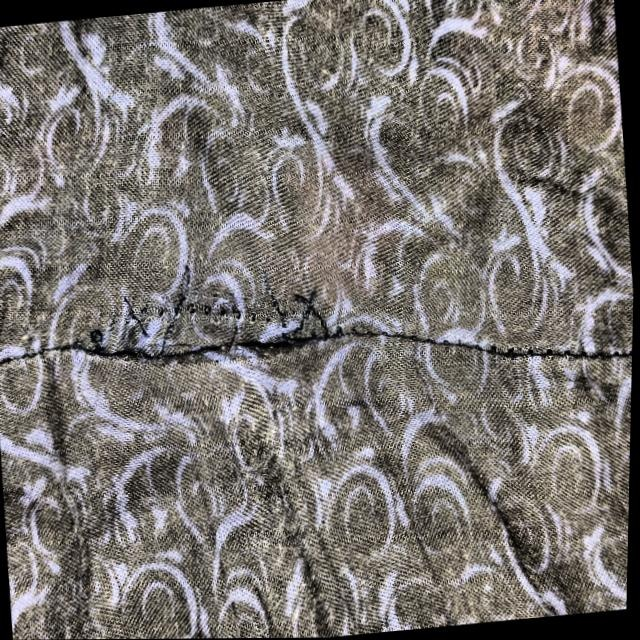seam: (44, 230, 388, 449)
